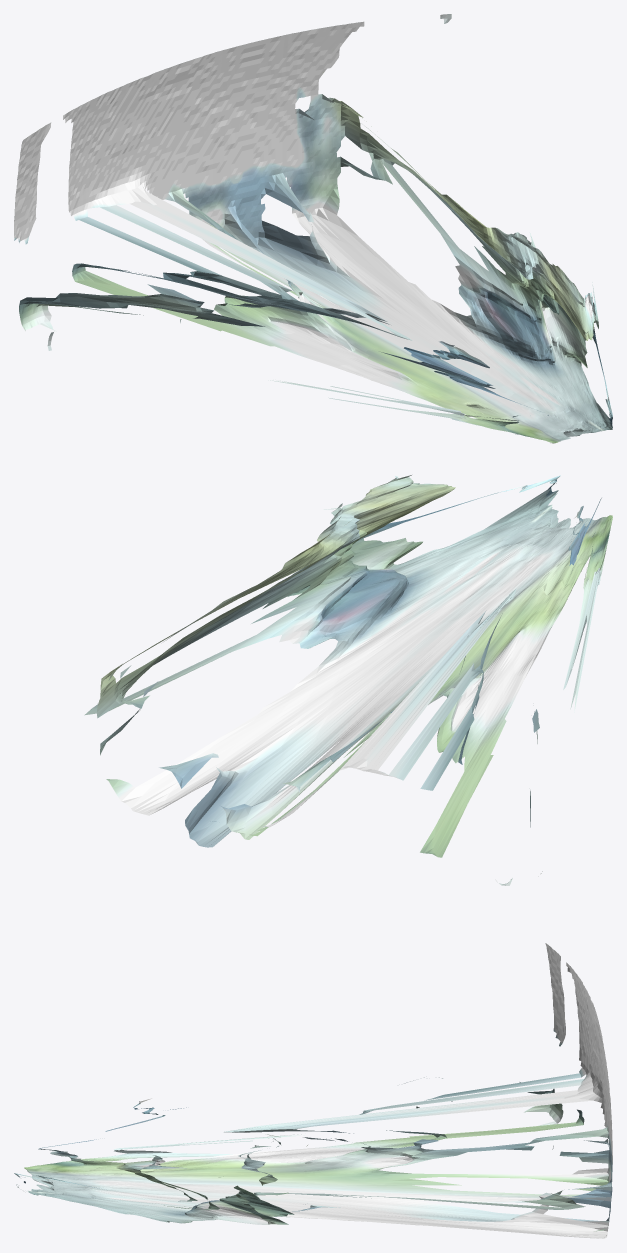
3 views of the same model, one above another, from view 1: azimuth 30°, elevation 25°; view 2: azimuth 150°, elevation 25°; view 3: azimuth 270°, elevation 25° (orthographic). The views are drawn at different scales.
Visible parts, largest first — view 1: defaultobject; view 2: defaultobject; view 3: defaultobject.
Boxes of the visible parts, <box> form: defaultobject: <box>14,14,612,443</box>; defaultobject: <box>84,475,612,885</box>; defaultobject: <box>14,943,612,1238</box>.
Size of the model in its own units: 34.63 by 17.05 by 45.65.
1 material, 1 textured.
